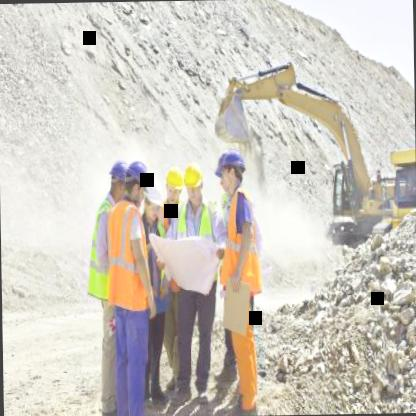helmet: (214, 144, 246, 197), (124, 155, 150, 204), (162, 166, 184, 210), (183, 160, 205, 202), (142, 179, 164, 221), (106, 160, 128, 202)
